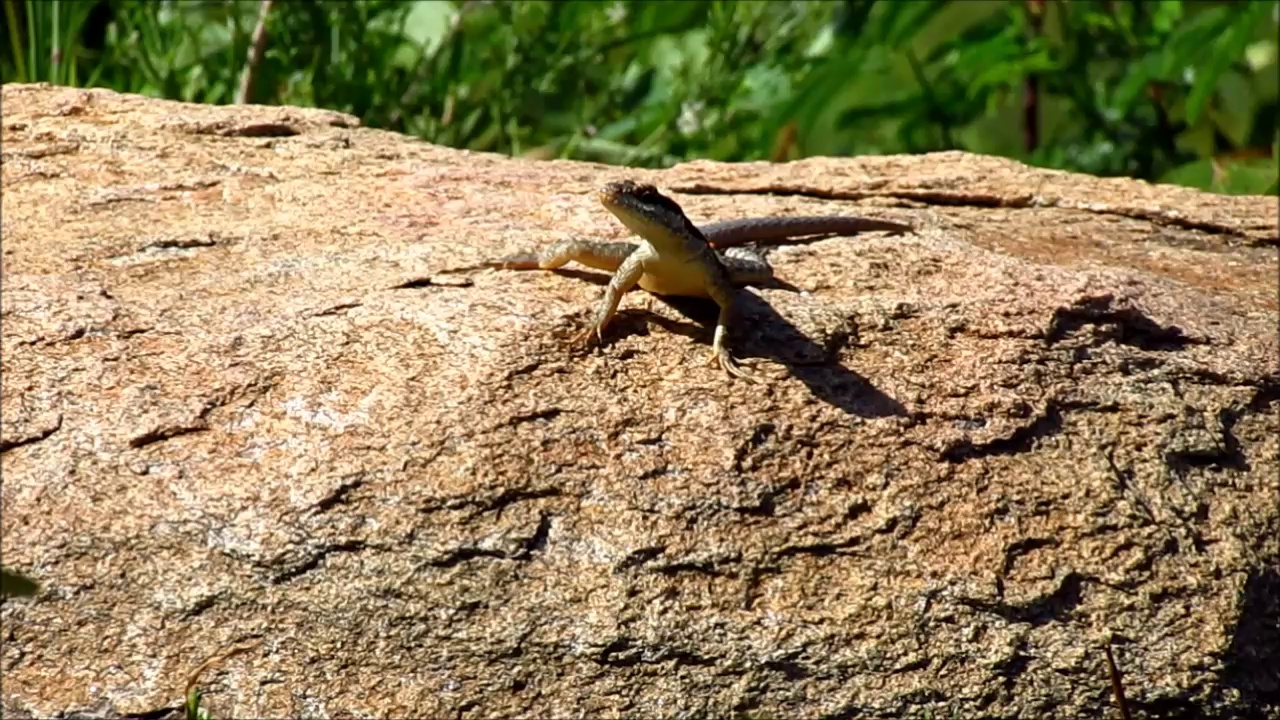body: (478, 216, 917, 380)
head: (597, 180, 678, 236)
